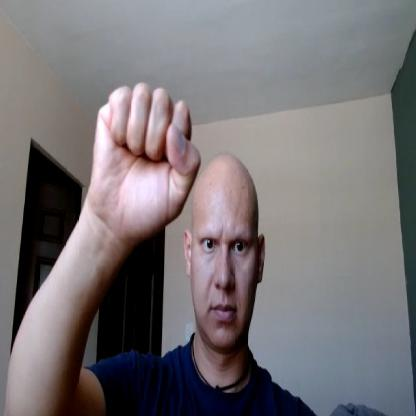S: (91, 83, 202, 239)
